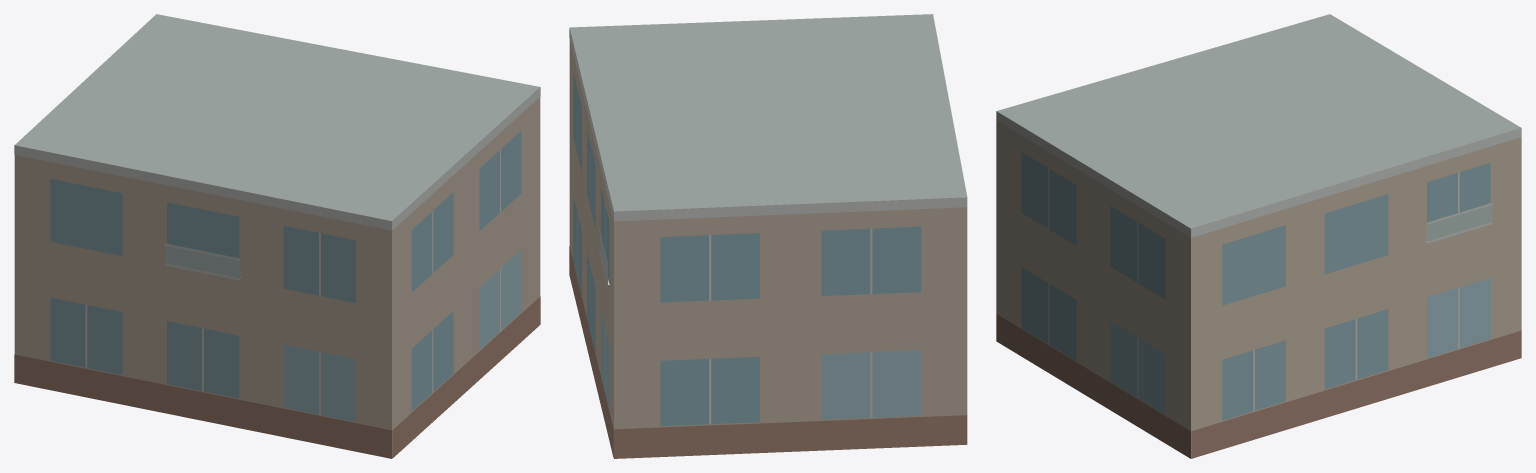
The model's file is survey-upis-32891978.glb.
The picture shows the model from 3 angles, left to right: view 1: azimuth 30°, elevation 25°; view 2: azimuth 150°, elevation 25°; view 3: azimuth 270°, elevation 25°; orthographic projection. The views are drawn at different scales.
Visible parts, largest first — view 1: survey-upis-32891978.tmp; view 2: survey-upis-32891978.tmp; view 3: survey-upis-32891978.tmp.
Part boxes in pixels (x1,y1,x2,y2): survey-upis-32891978.tmp: (14,14,540,458); survey-upis-32891978.tmp: (569,14,967,458); survey-upis-32891978.tmp: (996,14,1521,458).
Size of the model in its own units: 12.21 by 6.1 by 12.62.
